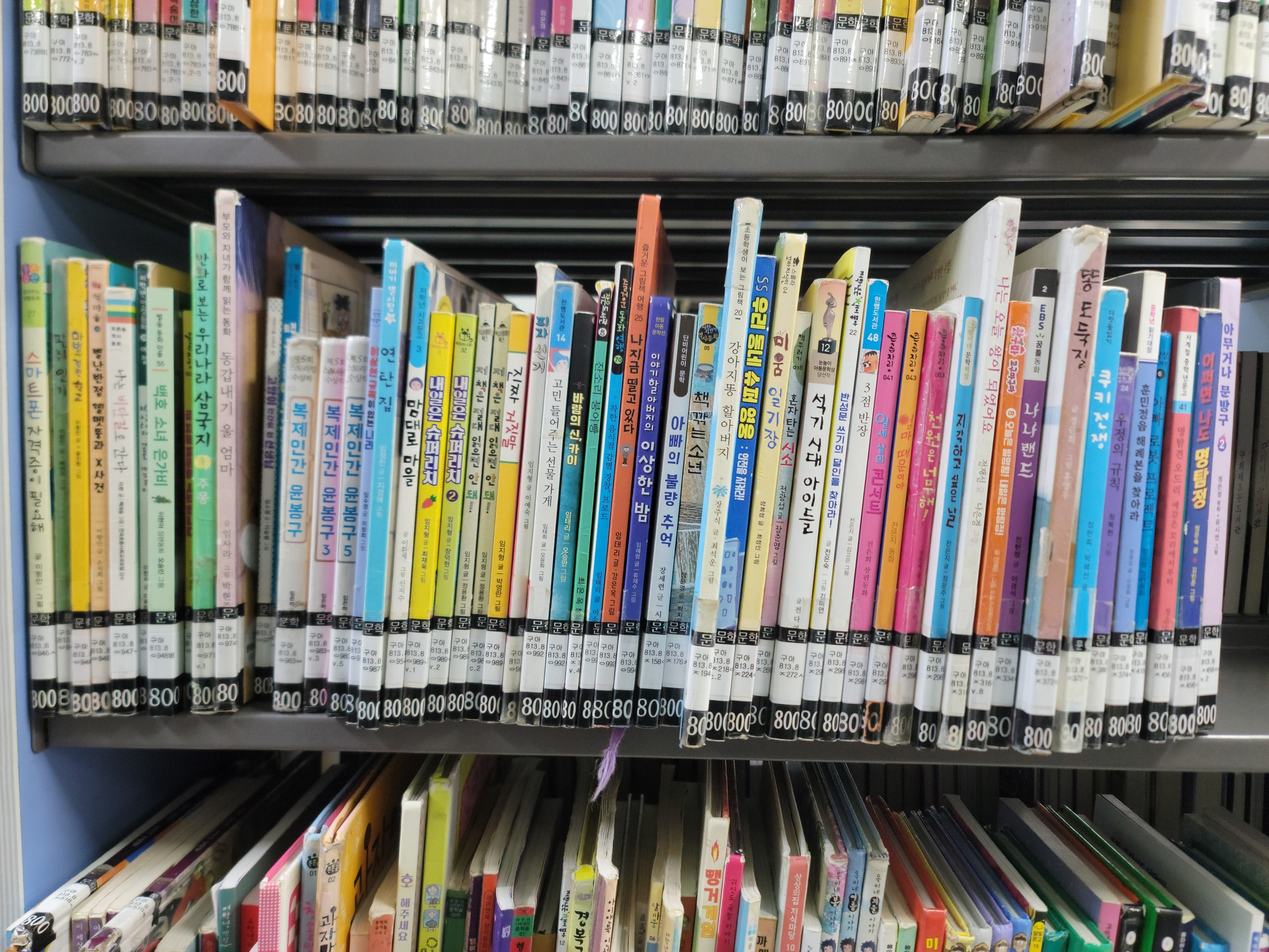book-spine: (1022, 226, 1106, 756), (941, 197, 1021, 751), (681, 205, 760, 743), (725, 234, 804, 741), (796, 248, 871, 743), (767, 279, 847, 743), (704, 252, 779, 742), (594, 193, 660, 730), (987, 270, 1060, 750), (816, 281, 887, 743), (1056, 289, 1124, 755), (914, 300, 983, 751), (963, 307, 1032, 753), (886, 313, 956, 746), (837, 308, 906, 744), (1102, 270, 1165, 747), (860, 311, 927, 745), (746, 311, 813, 735), (658, 301, 723, 731), (611, 289, 673, 727), (634, 310, 698, 730), (578, 263, 634, 727), (518, 280, 575, 726), (882, 308, 940, 745), (379, 261, 434, 721), (499, 276, 555, 726), (1191, 277, 1243, 752), (1144, 311, 1200, 750), (560, 281, 614, 724), (1168, 307, 1221, 751), (1080, 350, 1139, 747), (359, 239, 407, 720), (539, 312, 594, 729), (422, 313, 477, 723), (479, 308, 532, 725), (401, 312, 454, 724), (443, 303, 495, 721), (1122, 332, 1173, 749), (462, 304, 512, 724), (14, 239, 56, 717), (299, 339, 347, 718), (344, 286, 384, 720), (271, 341, 317, 718), (324, 334, 366, 719), (248, 289, 283, 717), (105, 289, 137, 718), (263, 244, 307, 556), (64, 257, 91, 717), (190, 222, 215, 715), (148, 288, 176, 716), (215, 196, 238, 715), (84, 263, 110, 717), (47, 261, 72, 726), (135, 262, 150, 712), (182, 307, 193, 714)
